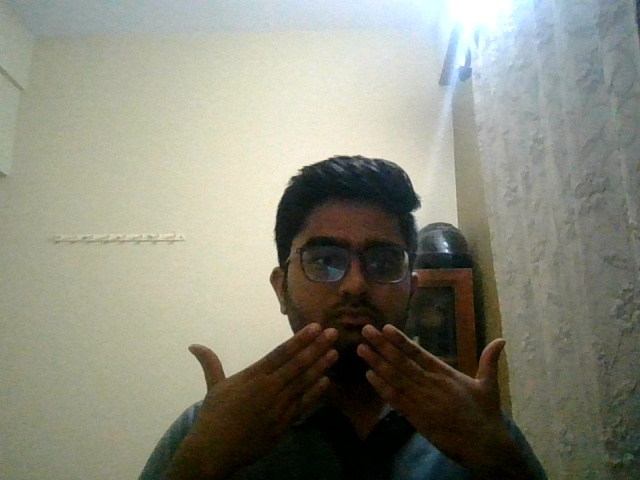Thank You: (175, 311, 552, 474)
